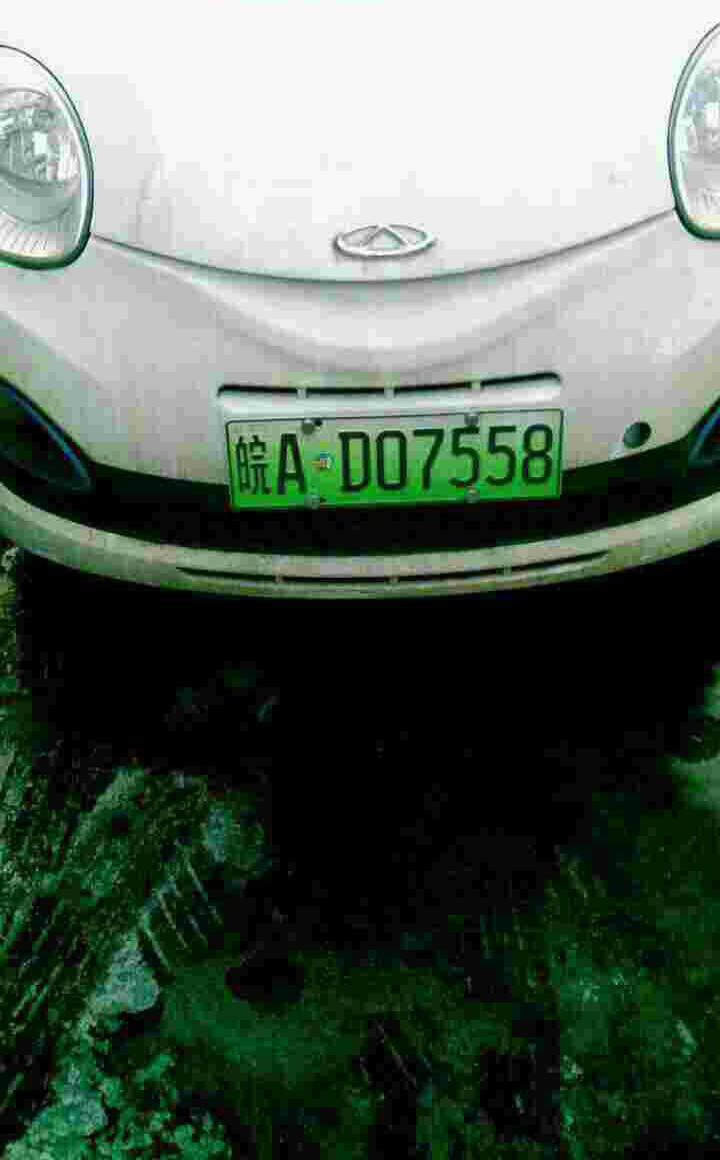car_green: (219, 419, 571, 511)
